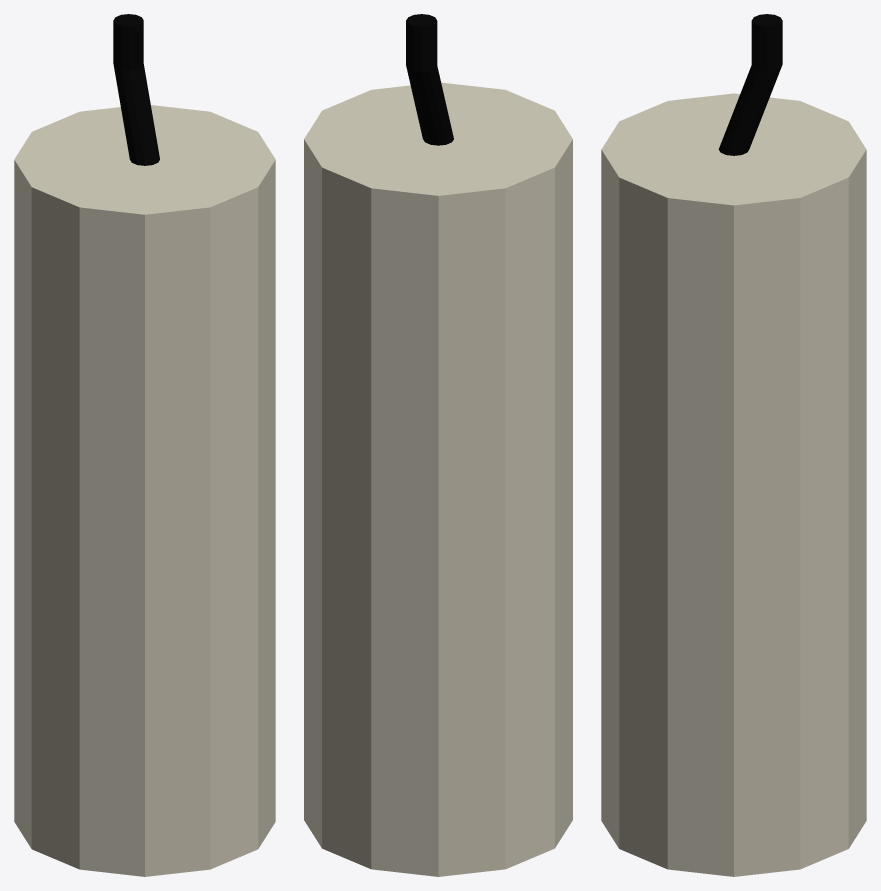
Rendered from Vela.fbx.
3 views of the same model, side by side, from view 1: azimuth 30°, elevation 25°; view 2: azimuth 150°, elevation 25°; view 3: azimuth 270°, elevation 25° (orthographic). The views are drawn at different scales.
Visible parts, largest first — view 1: Vela; view 2: Vela; view 3: Vela.
Boxes of the visible parts, x1,y1,x2,y2 form: Vela: [14, 14, 275, 876]; Vela: [304, 14, 572, 876]; Vela: [601, 14, 866, 876].
Bounding box in the file's own units: 12.1 × 40.31 × 12.1.
